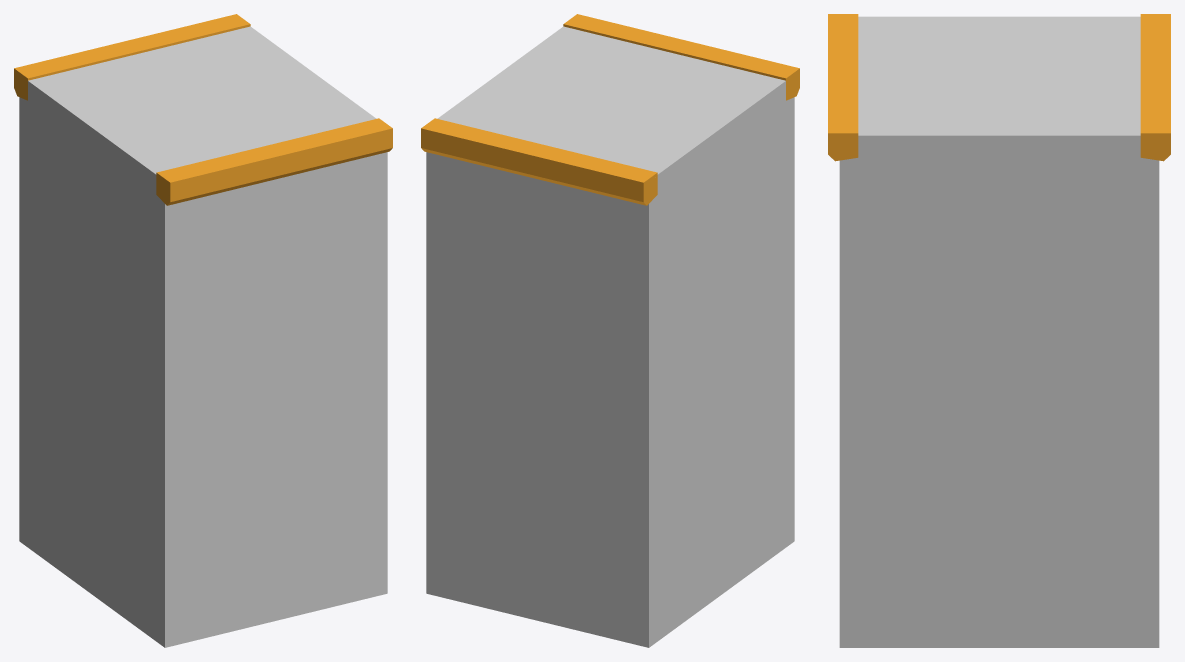
Rendered from SM_Rampart_3x6m_Walk_Fantasy.fbx.
3 renders of one model, left to right at view 1: azimuth 30°, elevation 25°; view 2: azimuth 150°, elevation 25°; view 3: azimuth 270°, elevation 25°, orthographic. The views are drawn at different scales.
Parts seen in each view (by area): view 1: SM_Rampart_3x6m_Walk_Fantasy; view 2: SM_Rampart_3x6m_Walk_Fantasy; view 3: SM_Rampart_3x6m_Walk_Fantasy.
Part boxes in pixels (x1,y1,x2,y2): SM_Rampart_3x6m_Walk_Fantasy: (14, 14, 392, 647); SM_Rampart_3x6m_Walk_Fantasy: (421, 14, 799, 647); SM_Rampart_3x6m_Walk_Fantasy: (828, 14, 1170, 647).
Bounding box in the file's own units: 3 × 6.04 × 3.65.
